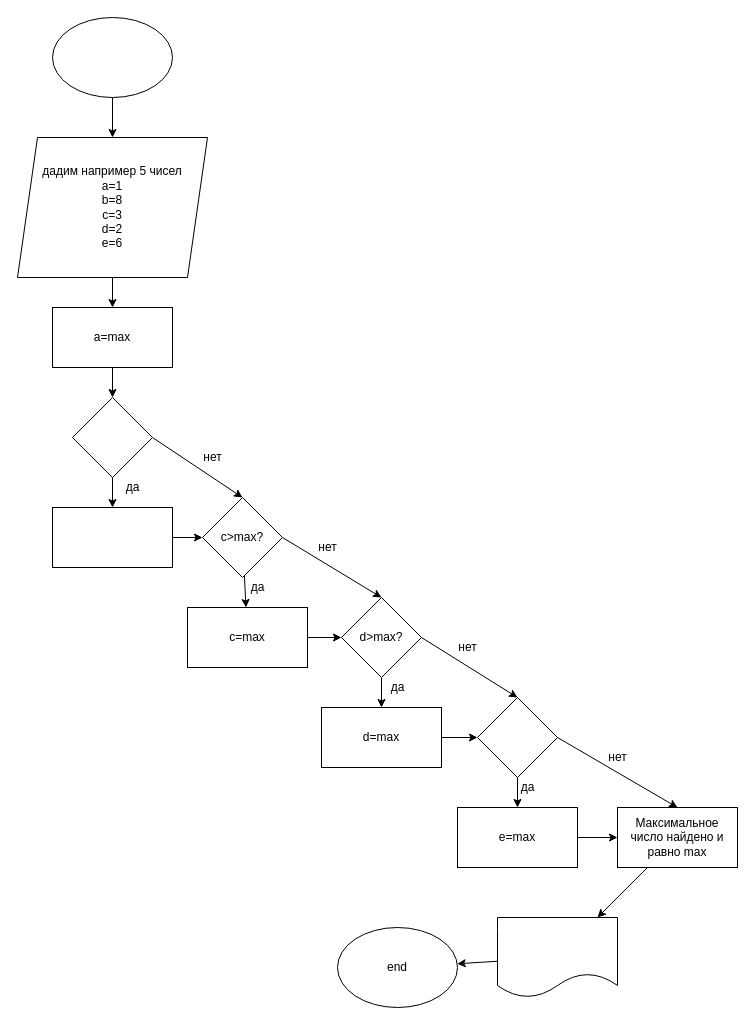
Some shapes in this 755 by 1025 pixel diagram are drawn without their labels. The shapes that lost their labels are listed below. From the top down, each one's box as (x1, y1, x2, y2) in pixels, then its label:
(52, 16, 172, 98): start
(72, 396, 152, 478): b>max?
(52, 506, 172, 568): b=max
(476, 696, 558, 778): e>max?
(496, 916, 618, 998): Вывод max
